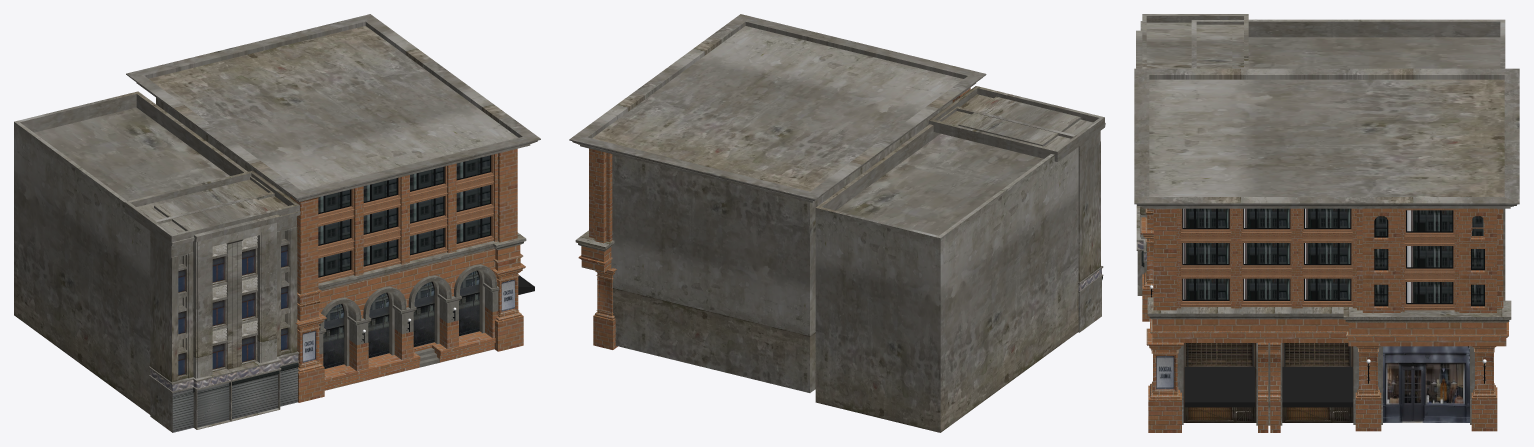
Rendered from building_6.glb.
3 renders of one model, left to right at view 1: azimuth 30°, elevation 25°; view 2: azimuth 150°, elevation 25°; view 3: azimuth 270°, elevation 25°, orthographic. The views are drawn at different scales.
Visible parts, largest first — view 1: Object_88, Object_10, Object_30, Object_52, Object_81, Object_99, Object_102, Object_4, Object_98, Object_11; view 2: Object_88, Object_30, Object_10, Object_22; view 3: Object_88, Object_10, Object_30, Object_52, Object_31, Object_36, Object_34, Object_4, Object_22, Object_11.
Part boxes in pixels (x1=…): Object_88: x1=14, y1=26, x2=518, y2=432; Object_10: x1=290, y1=148, x2=525, y2=402; Object_30: x1=126, y1=14, x2=540, y2=367; Object_52: x1=318, y1=155, x2=489, y2=276; Object_81: x1=323, y1=270, x2=479, y2=368; Object_99: x1=172, y1=367, x2=298, y2=432; Object_102: x1=178, y1=244, x2=287, y2=375; Object_4: x1=318, y1=155, x2=490, y2=342; Object_98: x1=150, y1=354, x2=298, y2=391; Object_11: x1=302, y1=279, x2=514, y2=362; Object_88: x1=592, y1=26, x2=1105, y2=432; Object_30: x1=569, y1=14, x2=986, y2=251; Object_10: x1=578, y1=87, x2=970, y2=349; Object_22: x1=595, y1=150, x2=606, y2=243; Object_88: x1=1136, y1=14, x2=1505, y2=300; Object_10: x1=1140, y1=208, x2=1508, y2=432; Object_30: x1=1134, y1=68, x2=1519, y2=425; Object_52: x1=1183, y1=208, x2=1483, y2=304; Object_31: x1=1383, y1=346, x2=1469, y2=422; Object_36: x1=1184, y1=343, x2=1352, y2=407; Object_34: x1=1183, y1=343, x2=1353, y2=422; Object_4: x1=1151, y1=208, x2=1485, y2=383; Object_22: x1=1497, y1=208, x2=1503, y2=308; Object_11: x1=1156, y1=356, x2=1174, y2=389.
Size of the model in its own units: 21.1 by 11.12 by 16.31.
16 materials, 14 textured.
